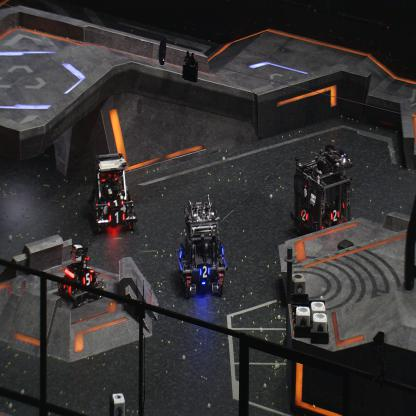car: (290, 145, 354, 238), (174, 194, 227, 298), (89, 151, 139, 233), (55, 243, 107, 307)
